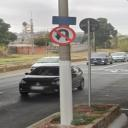NoVirarU: (49, 26, 77, 46)
